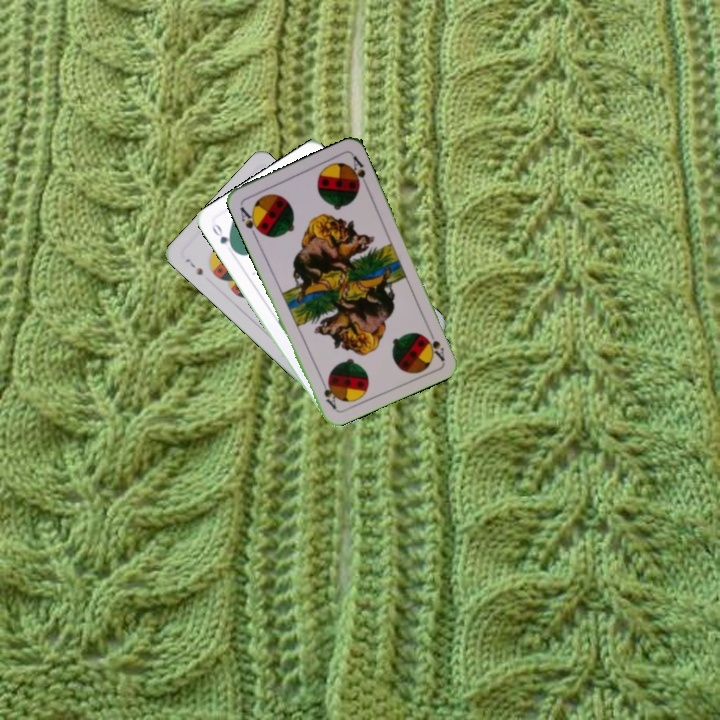GO: (208, 220, 238, 254)
S7: (181, 254, 206, 278)
SA: (236, 202, 265, 240), (422, 324, 447, 363)
